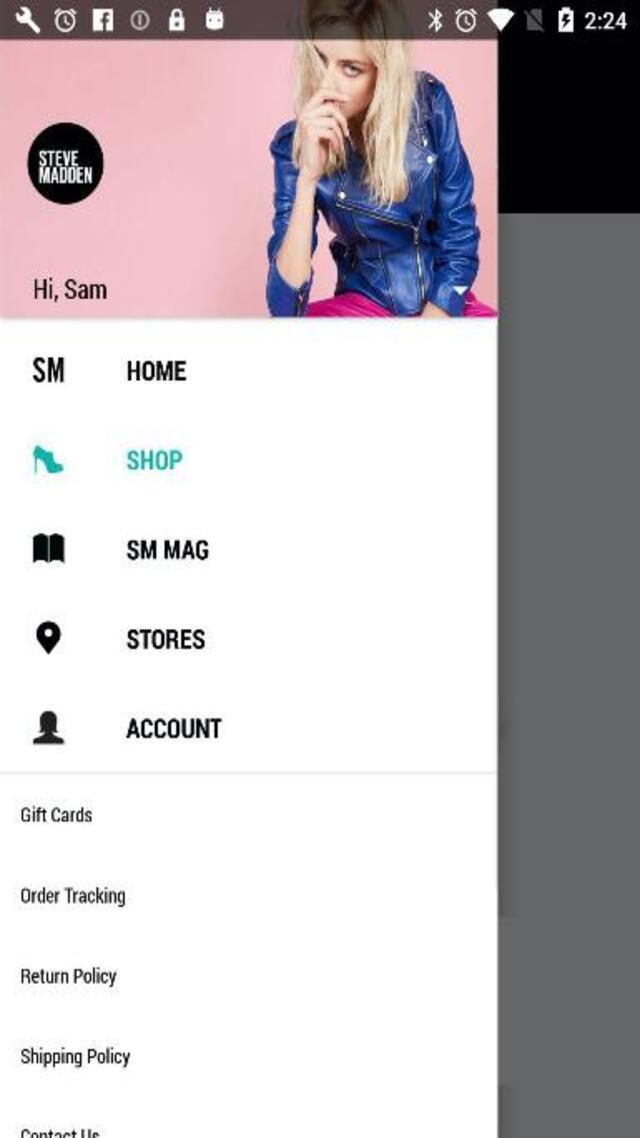Icon: (32, 711, 64, 744), (32, 532, 64, 562), (33, 445, 63, 473), (36, 622, 60, 655)
Image: (0, 40, 495, 316), (27, 122, 103, 204)
Text: (20, 1046, 130, 1066), (20, 886, 126, 906), (126, 717, 222, 738), (22, 966, 118, 986), (34, 278, 106, 302), (128, 539, 208, 560), (126, 628, 206, 649), (128, 359, 186, 380), (127, 450, 182, 471), (21, 806, 92, 822), (32, 356, 64, 384)
WS3: (21, 1128, 99, 1137)
